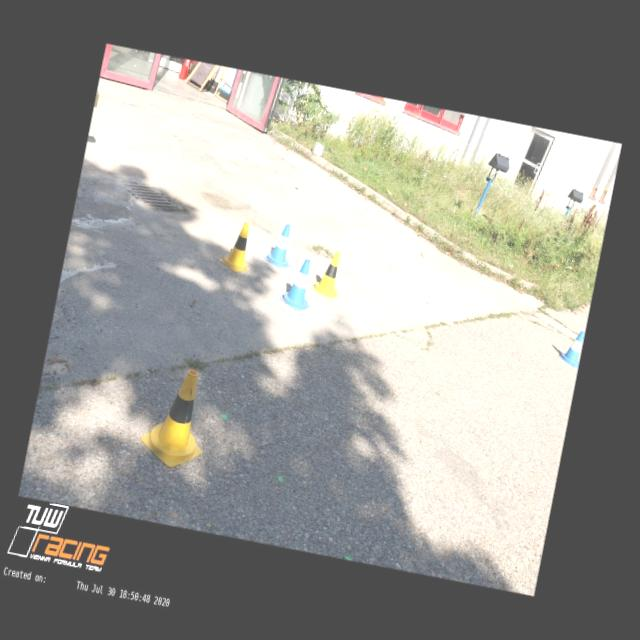blue_cone: (278, 255, 320, 312), (263, 222, 299, 270), (558, 328, 584, 369)
yellow_cone: (136, 363, 216, 472), (217, 218, 259, 274), (311, 250, 347, 300)
